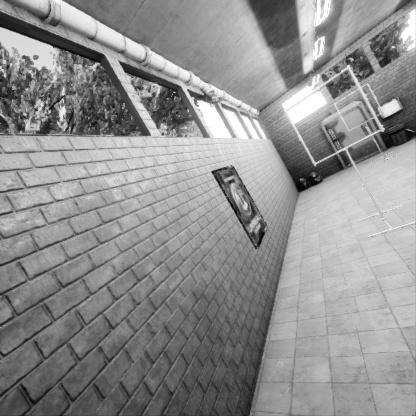gate: (284, 251, 386, 352), (333, 284, 385, 334)
